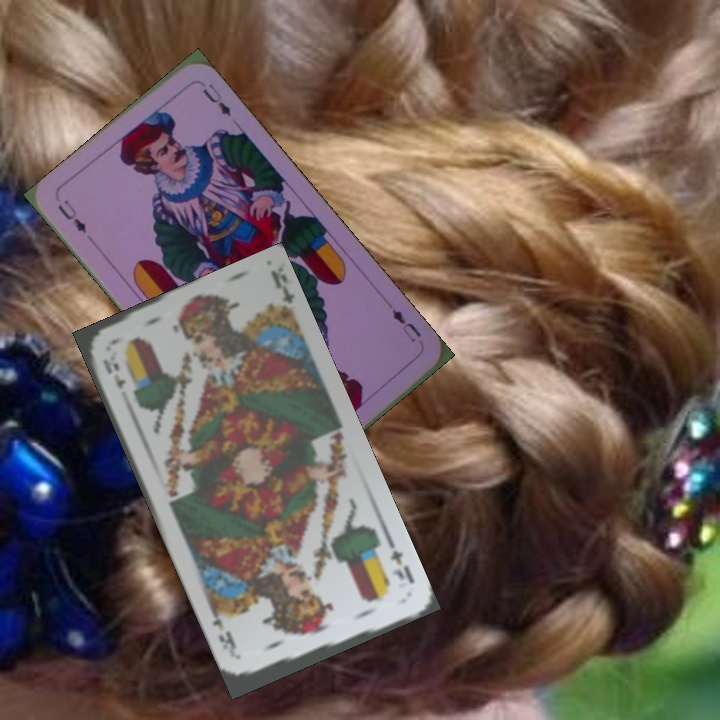EK: (384, 537, 417, 587), (99, 355, 128, 392)
EU: (53, 195, 90, 236), (387, 305, 424, 345)
